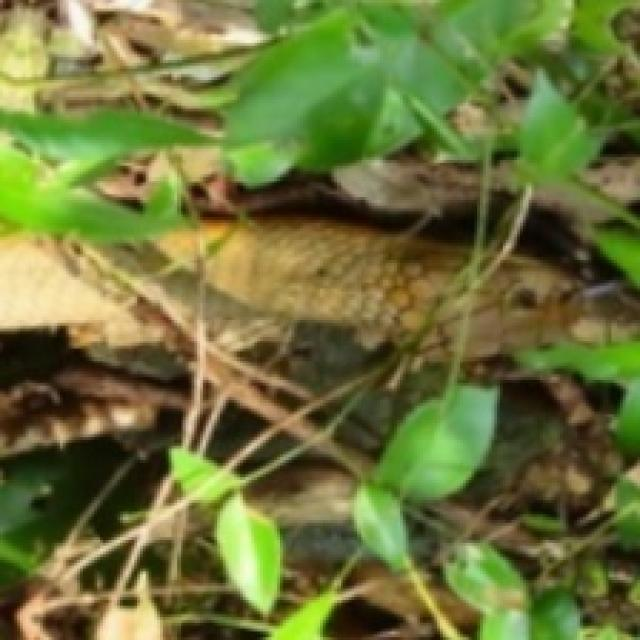king cobra: (0, 214, 466, 454), (463, 209, 637, 380)
